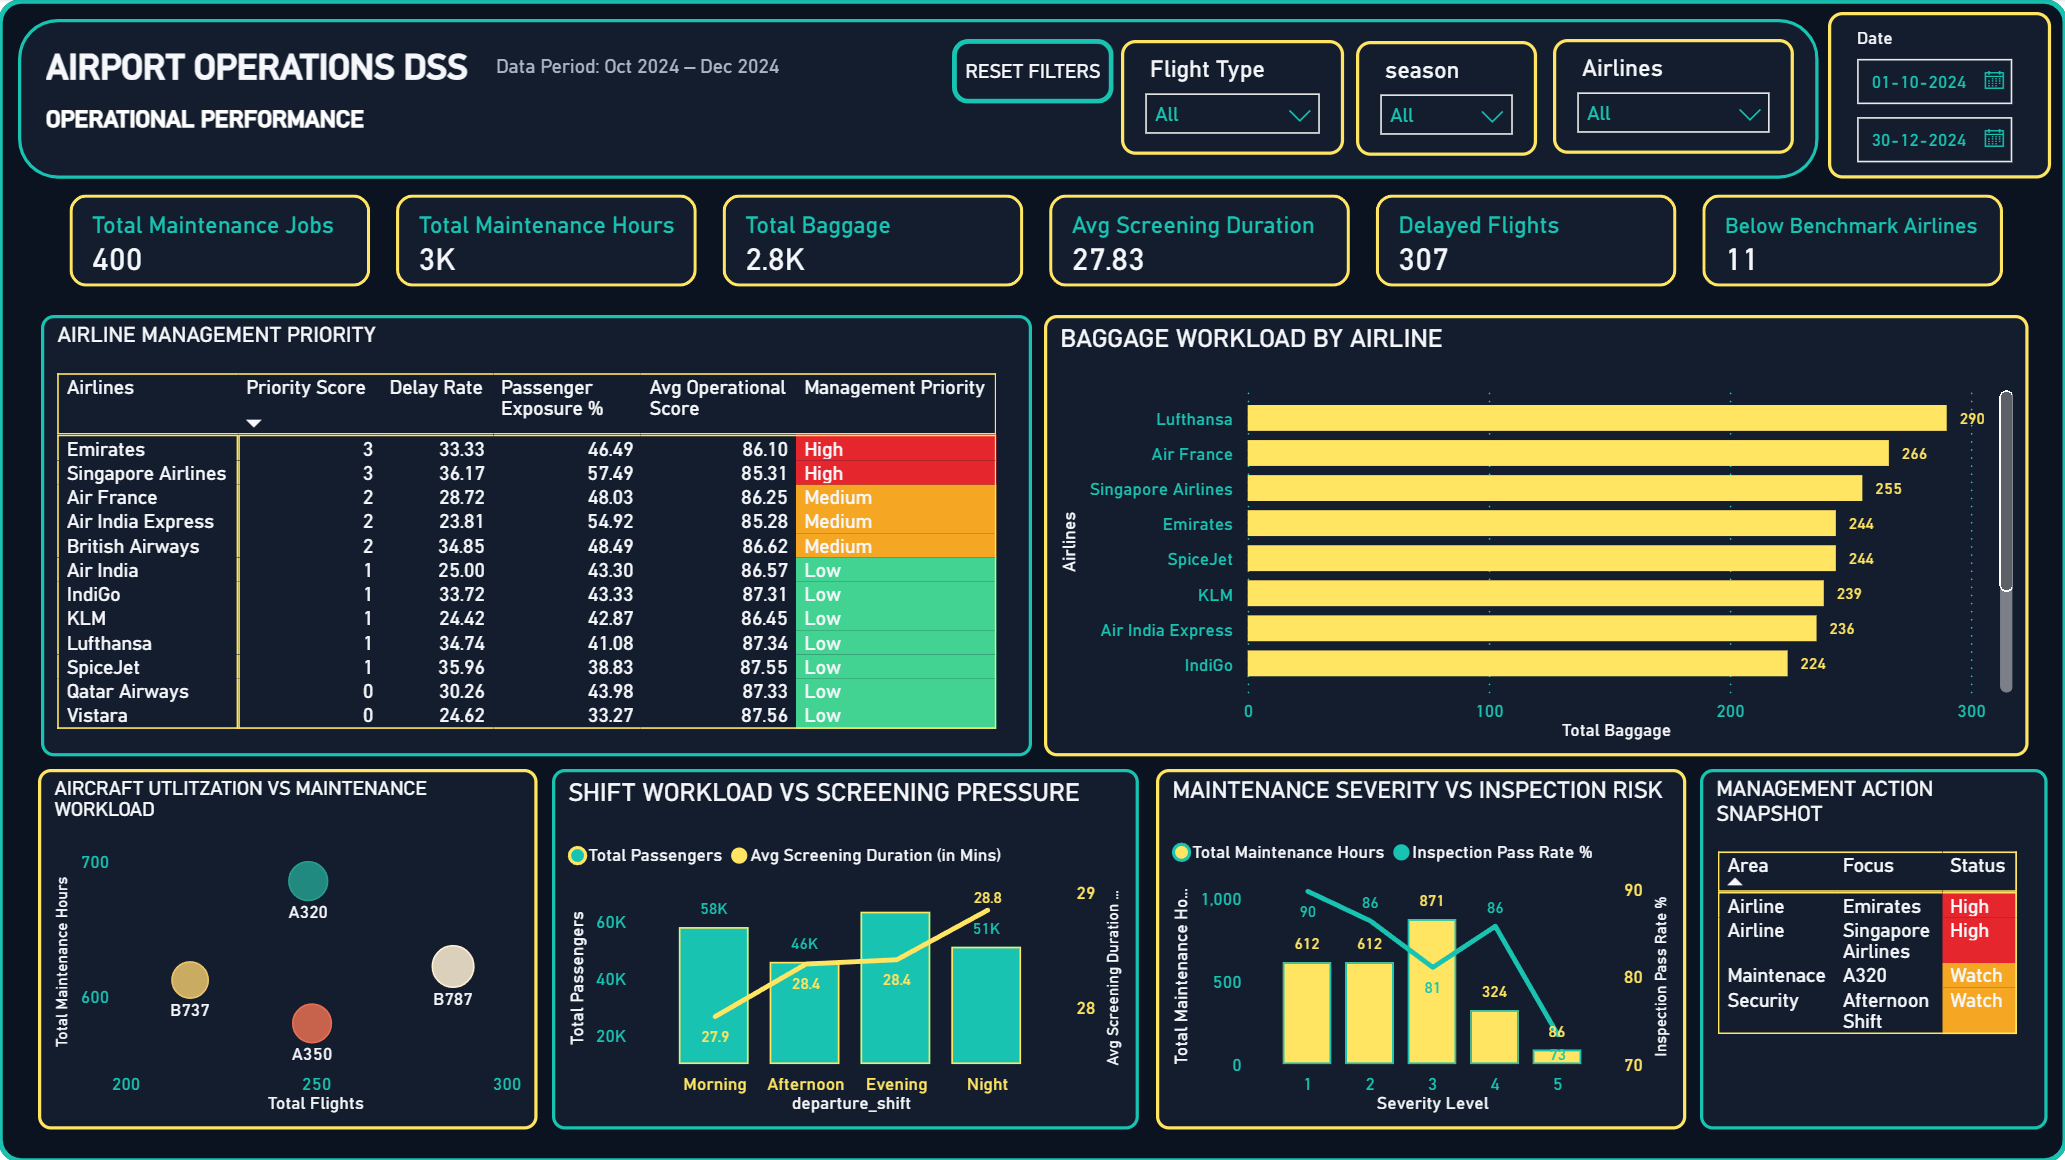

What the dashboard file says about the page in this screenshot:
{"tool":"powerbi","page":{"name":"Operational Performance","canvas":[1280,720],"ordinal":1},"visuals":[{"type":"shape","box":[0,0,1280,720],"z":0},{"type":"shape","box":[12.5,12.5,1113.8,98.8],"z":1000},{"type":"textbox","box":[25,25,290.5,34.3],"z":2000},{"type":"textbox","box":[25,60,219,27.8],"z":3000},{"type":"textbox","box":[303.1,26.9,186.8,32.8],"z":4000},{"type":"cardVisual","fields":{"Data":["All_Measures.Total Maintenance Jobs","All_Measures.Total Maintenance Hours","All_Measures.Total Baggage","All_Measures.Avg Screening Duration","All_Measures.Delayed Flights","All_Measures.Below Benchmark Airlines"]},"box":[27.5,103.8,1230.6,91.9],"z":5000},{"type":"pivotTable","title":"AIRLINE MANAGEMENT PRIORITY","fields":{"Rows":["vw_bi_airline_priority.airline_name"],"Values":["Sum(vw_bi_airline_priority.priority_score)","Sum(vw_bi_airline_priority.delay_rate)","Sum(vw_bi_airline_priority.passenger_exposure_percentage)","Sum(vw_bi_airline_priority.avg_operational_score)","Min(vw_bi_airline_priority.Management Priority)"]},"box":[26.9,195.6,612.5,272.5],"z":6000},{"type":"clusteredBarChart","title":"BAGGAGE WORKLOAD BY AIRLINE","fields":{"Category":["flights.airline_name"],"Y":["All_Measures.Total Baggage"]},"box":[646.9,195.6,609.4,272.5],"z":7000},{"type":"scatterChart","title":"AIRCRAFT UTLITZATION VS MAINTENANCE WORKLOAD","fields":{"X":["Sum(vw_bi_aircraft_maintenance.total_flights)"],"Y":["Sum(vw_bi_aircraft_maintenance.total_maintenance_hours)"],"Size":["Sum(vw_bi_aircraft_maintenance.total_passengers)"],"Series":["vw_bi_aircraft_maintenance.aircraft_model"]},"box":[25,476.2,308.8,222.5],"z":8000},{"type":"lineClusteredColumnComboChart","title":"SHIFT WORKLOAD VS SCREENING PRESSURE","fields":{"Category":["Shift.departure_shift"],"Y":["All_Measures.Total Passengers"],"Y2":["All_Measures.Avg Screening Duration"]},"box":[342.5,476.2,362.5,222.5],"z":9000},{"type":"lineClusteredColumnComboChart","title":"MAINTENANCE SEVERITY VS INSPECTION RISK","fields":{"Category":["vw_bi_maintenance_severity.severity_level"],"Y":["Sum(vw_bi_maintenance_severity.total_maintenance_hours)"],"Y2":["Sum(vw_bi_maintenance_severity.inspection_pass_rate_percentage)"]},"box":[716.2,476.2,327.5,222.5],"z":10000},{"type":"tableEx","title":"MANAGEMENT ACTION SNAPSHOT","fields":{"Values":["Management Action Snapshot.Area","Management Action Snapshot.Focus","Management Action Snapshot.Status"]},"box":[1052.5,476.2,215,222.5],"z":11000},{"type":"slicer","title":"DATE","fields":{"Values":["flights.scheduled_departure"]},"box":[1131.9,8.1,137.5,103.1],"z":11001},{"type":"slicer","title":"DATE","fields":{"Values":["flights.airline_name"]},"box":[961.9,25,149.4,70.6],"z":11002},{"type":"slicer","title":"DATE","fields":{"Values":["flights.season"]},"box":[840,26.2,111.9,70.6],"z":11003},{"type":"slicer","title":"DATE","fields":{"Values":["flights.International Status"]},"box":[694.4,25.6,138.1,70.6],"z":11004},{"type":"actionButton","box":[590,25,100,40],"z":11005}]}

Visuals, with their boxes in screenshot pixels (x1, y1, x2, y2), scaled from the page's 1280x720 canvas onto the 2065x1160 screenshot:
shape: 0,0,2064,1159
shape: 20,20,1817,179
textbox: 40,40,509,96
textbox: 40,97,394,141
textbox: 489,43,790,96
cardVisual - All_Measures.Total Maintenance Jobs x All_Measures.Total Maintenance Hours: 44,167,2030,315
"AIRLINE MANAGEMENT PRIORITY" pivotTable: 43,315,1032,754
"BAGGAGE WORKLOAD BY AIRLINE" clusteredBarChart: 1044,315,2027,754
"AIRCRAFT UTLITZATION VS MAINTENANCE WORKLOAD" scatterChart: 40,767,539,1126
"SHIFT WORKLOAD VS SCREENING PRESSURE" lineClusteredColumnComboChart: 553,767,1137,1126
"MAINTENANCE SEVERITY VS INSPECTION RISK" lineClusteredColumnComboChart: 1155,767,1684,1126
"MANAGEMENT ACTION SNAPSHOT" tableEx: 1698,767,2045,1126
"DATE" slicer: 1826,13,2048,179
"DATE" slicer: 1552,40,1793,154
"DATE" slicer: 1355,42,1536,156
"DATE" slicer: 1120,41,1343,155
actionButton: 952,40,1113,105
